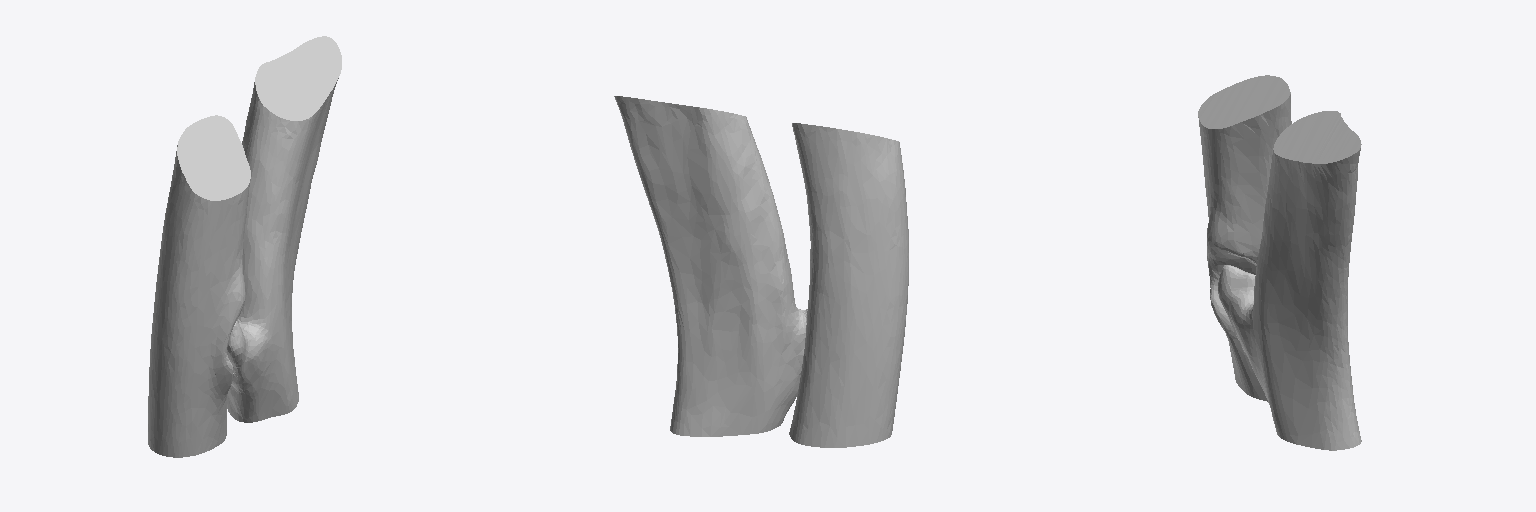
File: totoro_con_UV_collapse_decimation_5600.obj
3 views of the same model, side by side, from view 1: azimuth 30°, elevation 25°; view 2: azimuth 150°, elevation 25°; view 3: azimuth 270°, elevation 25° (orthographic).
Parts seen in each view (by area): view 1: totoro_con_UV_collapse_decimation_5600; view 2: totoro_con_UV_collapse_decimation_5600; view 3: totoro_con_UV_collapse_decimation_5600.
Boxes of the visible parts, <box> form: totoro_con_UV_collapse_decimation_5600: <box>148,36,341,457</box>; totoro_con_UV_collapse_decimation_5600: <box>614,96,908,447</box>; totoro_con_UV_collapse_decimation_5600: <box>1198,75,1361,450</box>.
Size of the model in its own units: 46.22 by 62.11 by 28.02.